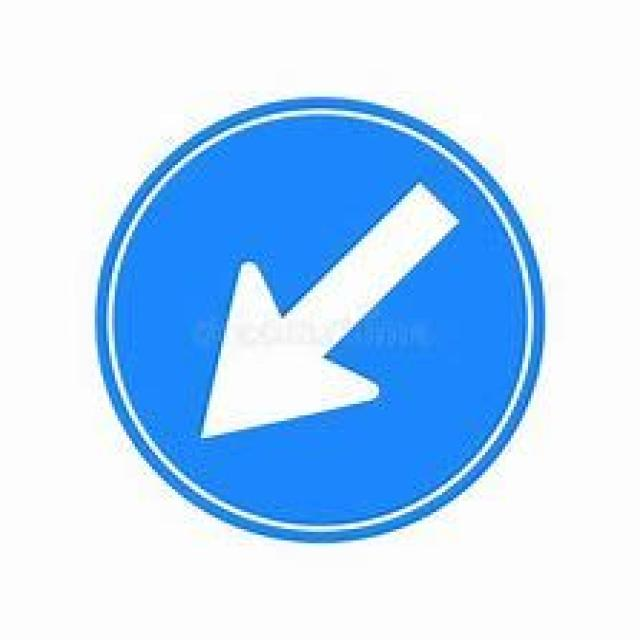COMPULSARY_KEEP_LEFT: (90, 90, 547, 546)
